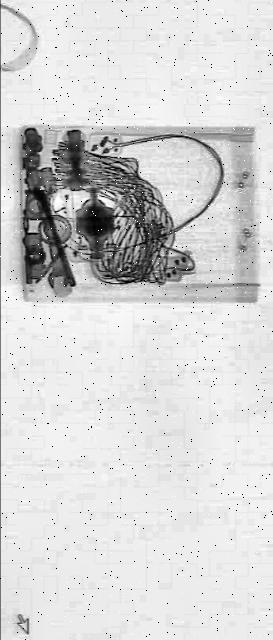Wrench: (28, 170, 71, 302)
